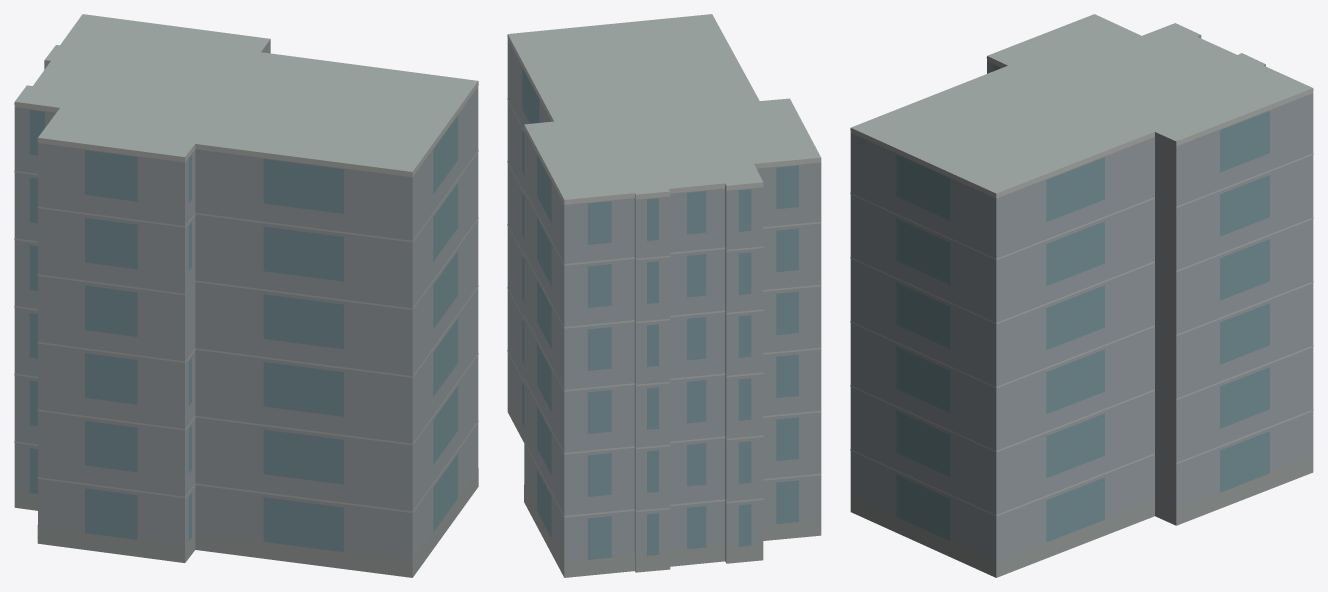
The model's file is survey-upis-32519276.glb.
3 views of the same model, side by side, from view 1: azimuth 30°, elevation 25°; view 2: azimuth 150°, elevation 25°; view 3: azimuth 270°, elevation 25° (orthographic). The views are drawn at different scales.
Visible parts, largest first — view 1: survey-upis-32519276.tmp; view 2: survey-upis-32519276.tmp; view 3: survey-upis-32519276.tmp.
Boxes of the visible parts, bbox=[...] form: survey-upis-32519276.tmp: bbox=[14, 14, 478, 577]; survey-upis-32519276.tmp: bbox=[507, 14, 821, 577]; survey-upis-32519276.tmp: bbox=[850, 14, 1313, 577].
Size of the model in its own units: 18.81 by 18.75 by 20.48.
